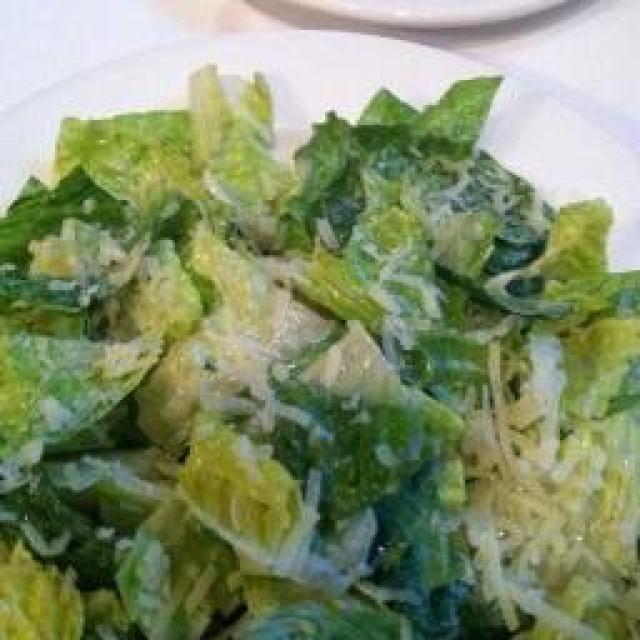Lettuce: (0, 92, 640, 640)
